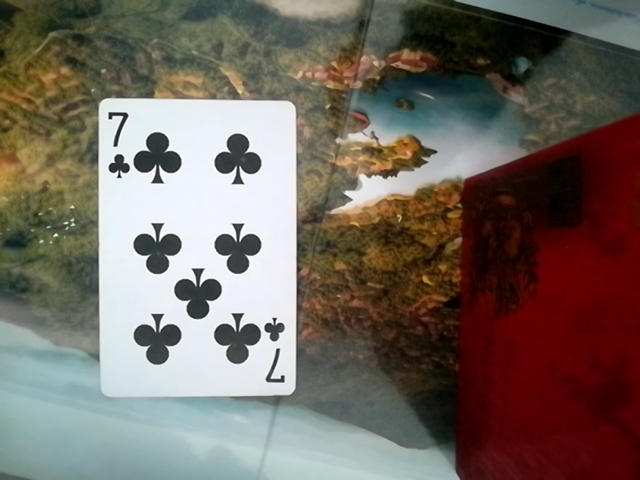mh 7: (91, 95, 300, 404)
